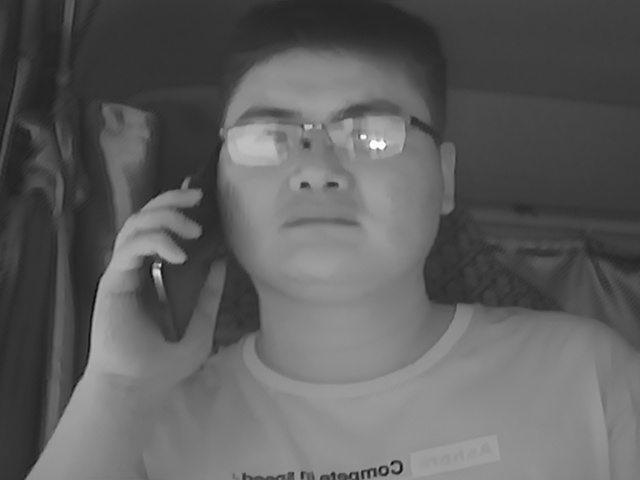hand: (88, 185, 224, 383)
